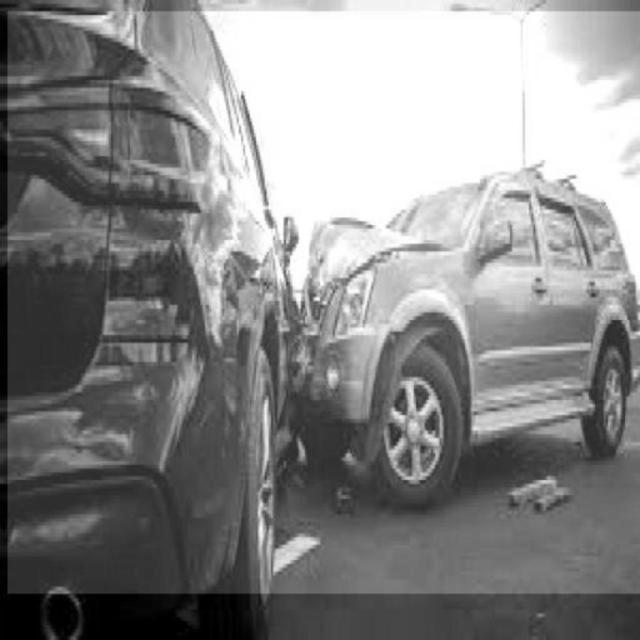accident: (8, 11, 640, 593)
